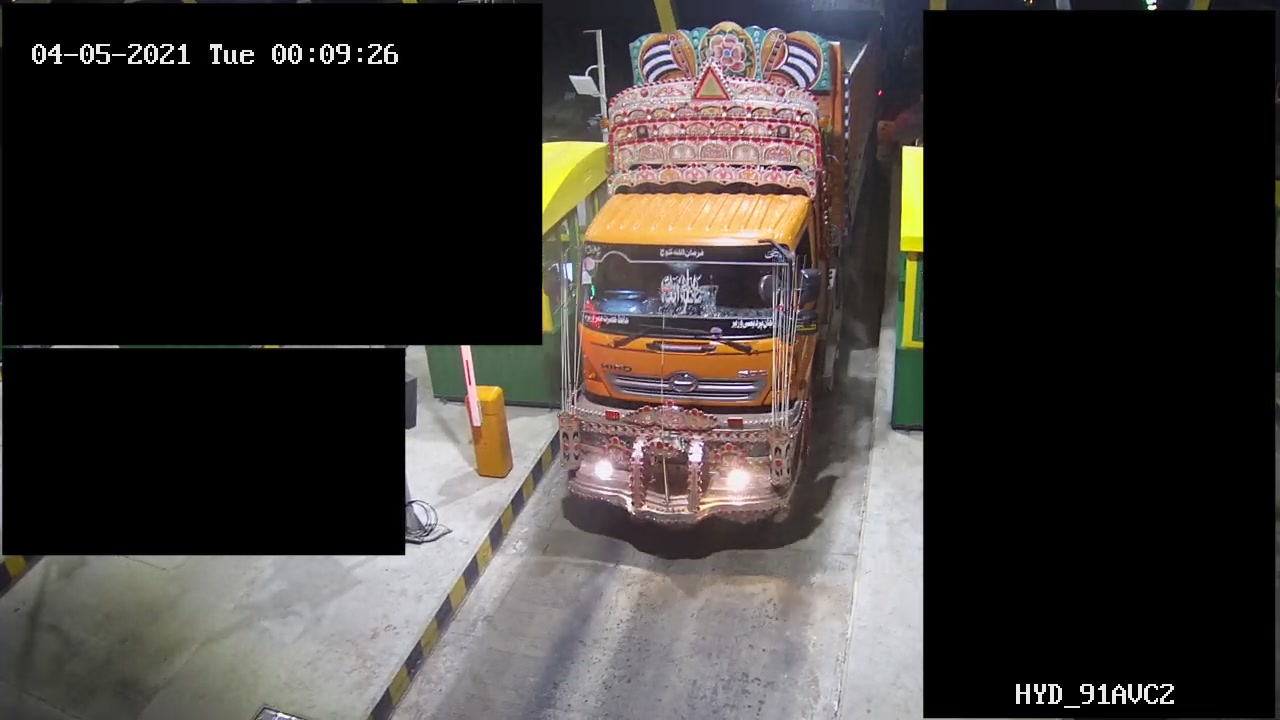F6: (561, 1, 890, 534)
